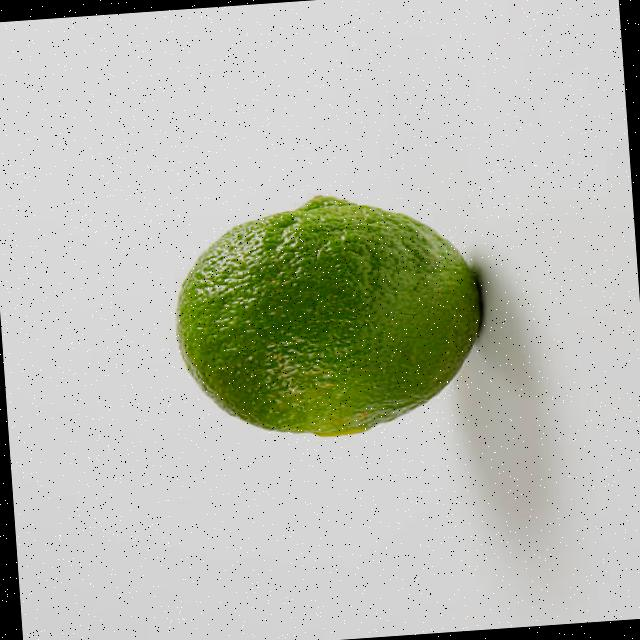Unripe: (163, 183, 490, 450)
